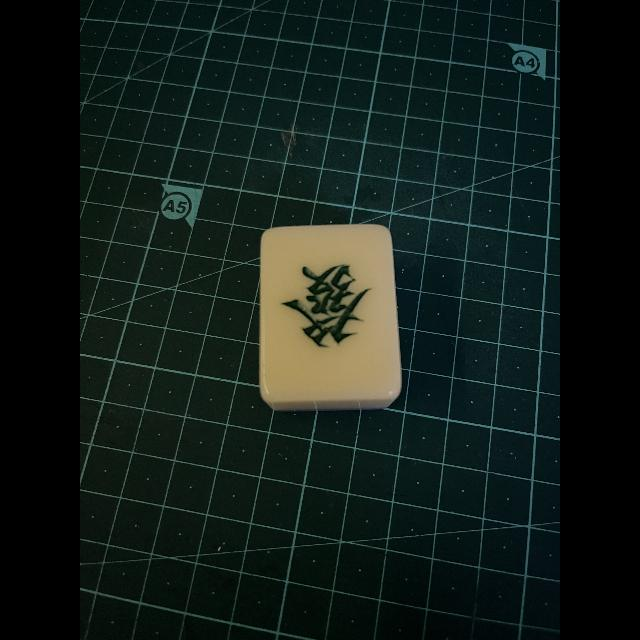dg: (264, 228, 394, 392)
